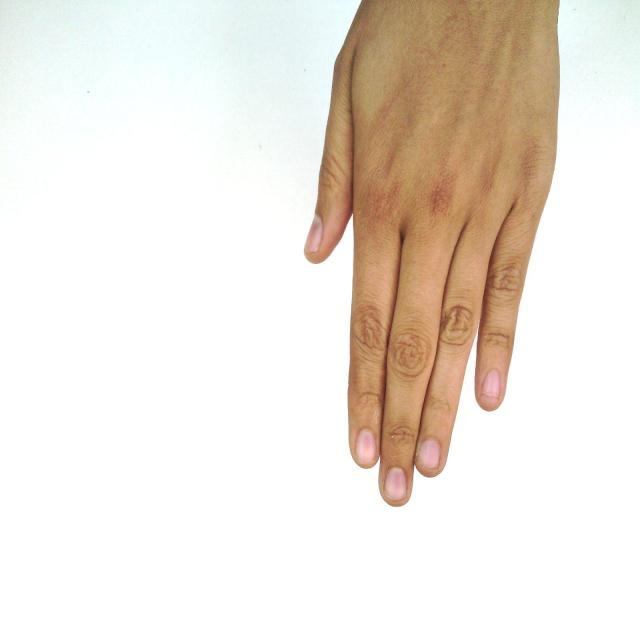Fingernail: (305, 214, 323, 252), (385, 467, 406, 499), (357, 429, 376, 464), (419, 439, 439, 469), (480, 370, 500, 397)
